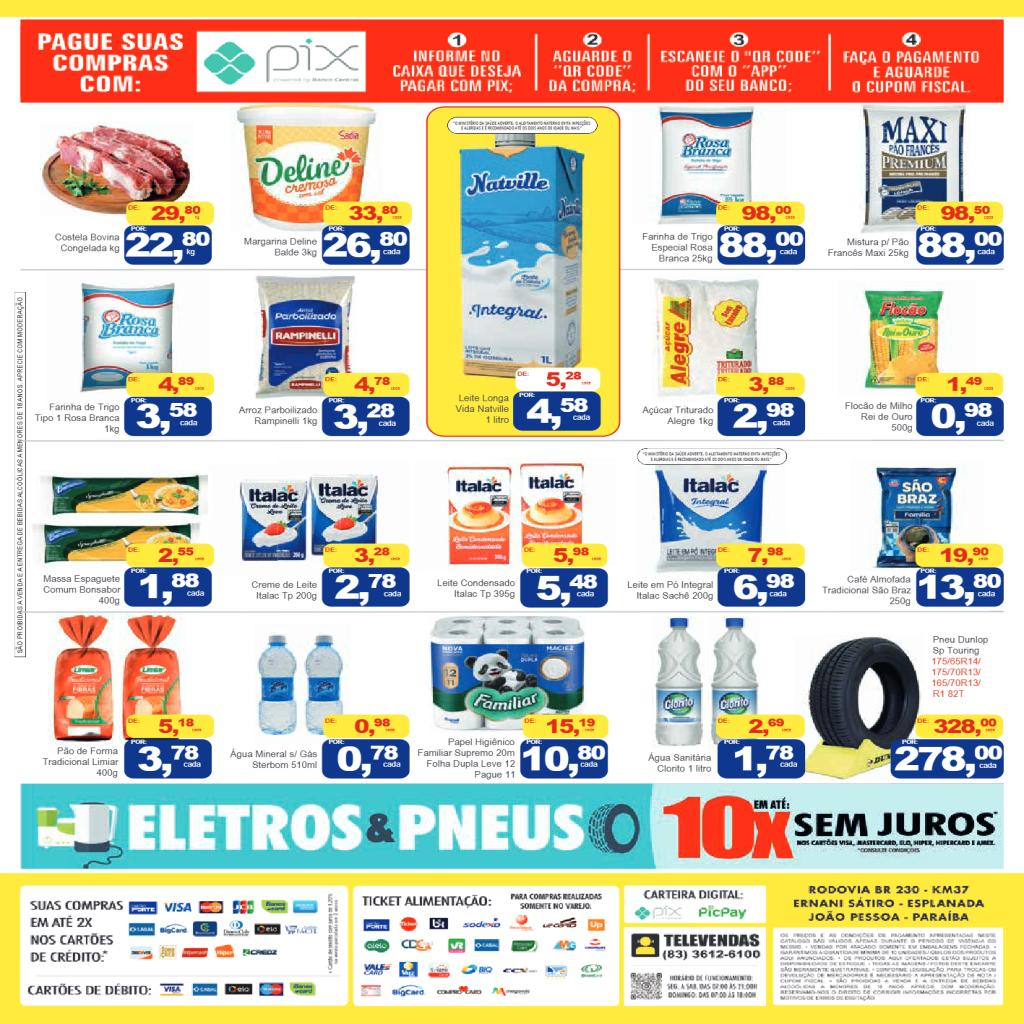price: (890, 744, 1004, 778), (918, 231, 1003, 265), (917, 572, 1002, 606), (125, 231, 211, 264), (719, 231, 805, 264), (520, 745, 606, 778), (322, 231, 410, 263), (731, 743, 799, 779), (334, 744, 404, 778), (136, 743, 204, 778), (524, 397, 592, 431), (138, 572, 206, 606), (135, 401, 201, 436), (930, 401, 996, 436), (333, 573, 403, 606), (332, 402, 399, 436), (732, 573, 798, 606), (732, 402, 796, 436), (534, 574, 599, 606)
product_text: (416, 735, 518, 781), (930, 632, 990, 700), (822, 571, 915, 607), (34, 401, 122, 435), (39, 745, 122, 780), (39, 572, 123, 606), (842, 398, 914, 436), (227, 744, 319, 773), (640, 229, 716, 264), (624, 577, 715, 603), (434, 575, 518, 602), (826, 235, 912, 261), (453, 390, 510, 428), (235, 403, 318, 428), (641, 404, 715, 430), (241, 234, 319, 258), (249, 579, 320, 604), (53, 230, 122, 255), (646, 750, 714, 774)
